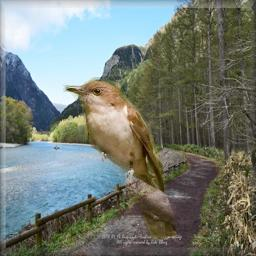Cuckoo: (63, 77, 177, 241)
